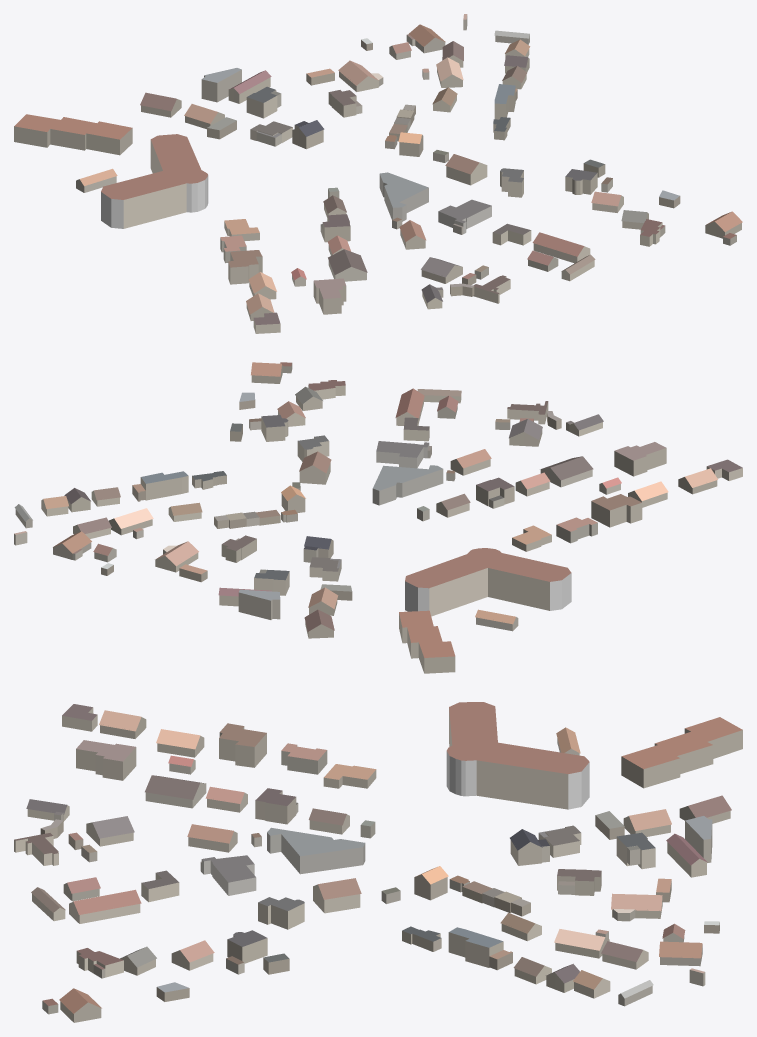
3 views of the same model, one above another, from view 1: azimuth 30°, elevation 25°; view 2: azimuth 150°, elevation 25°; view 3: azimuth 270°, elevation 25° (orthographic). The views are drawn at different scales.
Visible parts, largest first — view 1: tuile; view 2: tuile; view 3: tuile.
Boxes of the visible parts, x1=… form: tuile: x1=14, y1=14, x2=742, y2=333; tuile: x1=14, y1=362, x2=742, y2=673; tuile: x1=14, y1=702, x2=742, y2=1022.
Size of the model in its own units: 261 by 17.65 by 269.
